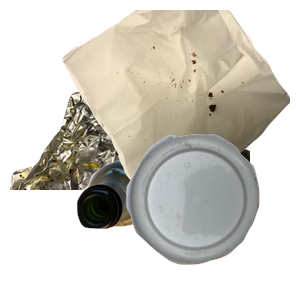glass: (74, 158, 223, 300)
metal: (10, 32, 250, 212)
plastic: (124, 132, 300, 300)
trash: (60, 10, 300, 190)
